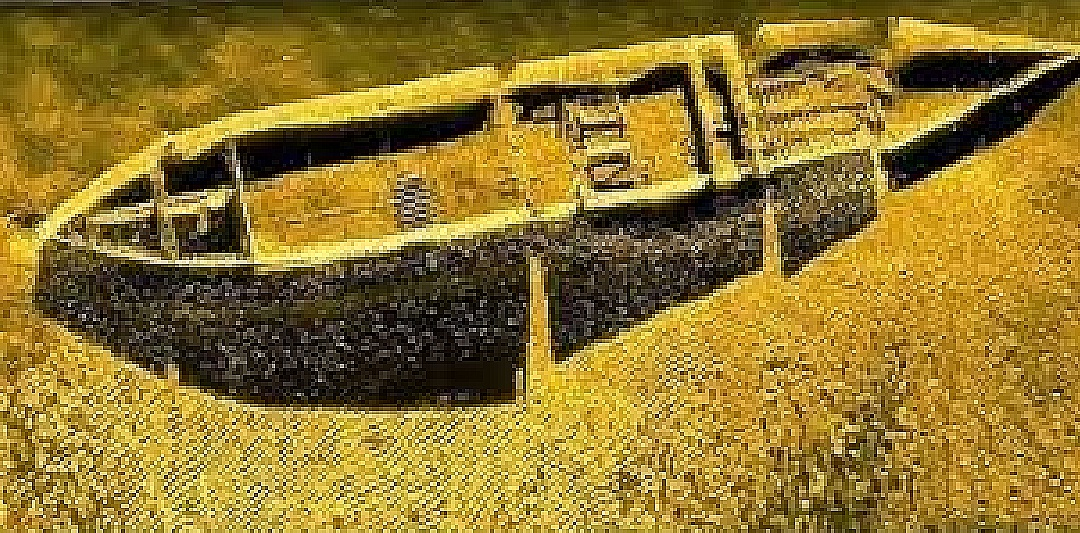ship: (33, 13, 1080, 283)
